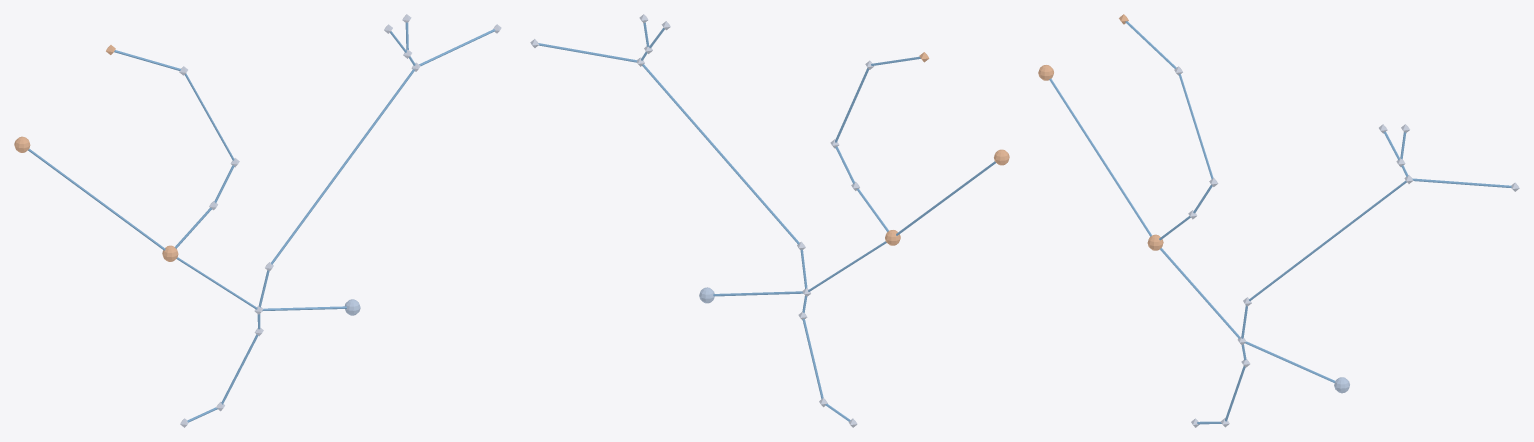
The model's file is constellation-and.glb.
3 renders of one model, left to right at view 1: azimuth 30°, elevation 25°; view 2: azimuth 150°, elevation 25°; view 3: azimuth 330°, elevation 25°, orthographic.
Bounding box in the file's own units: 3.52 × 2.77 × 0.3531.
